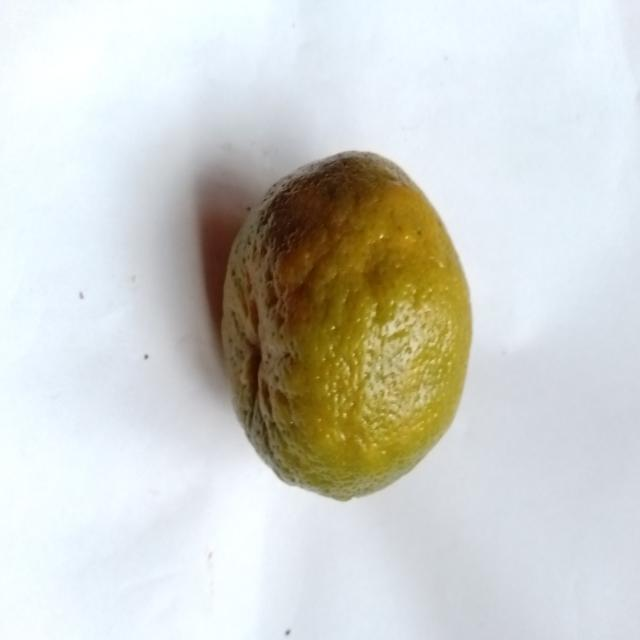orange: (222, 152, 471, 500)
